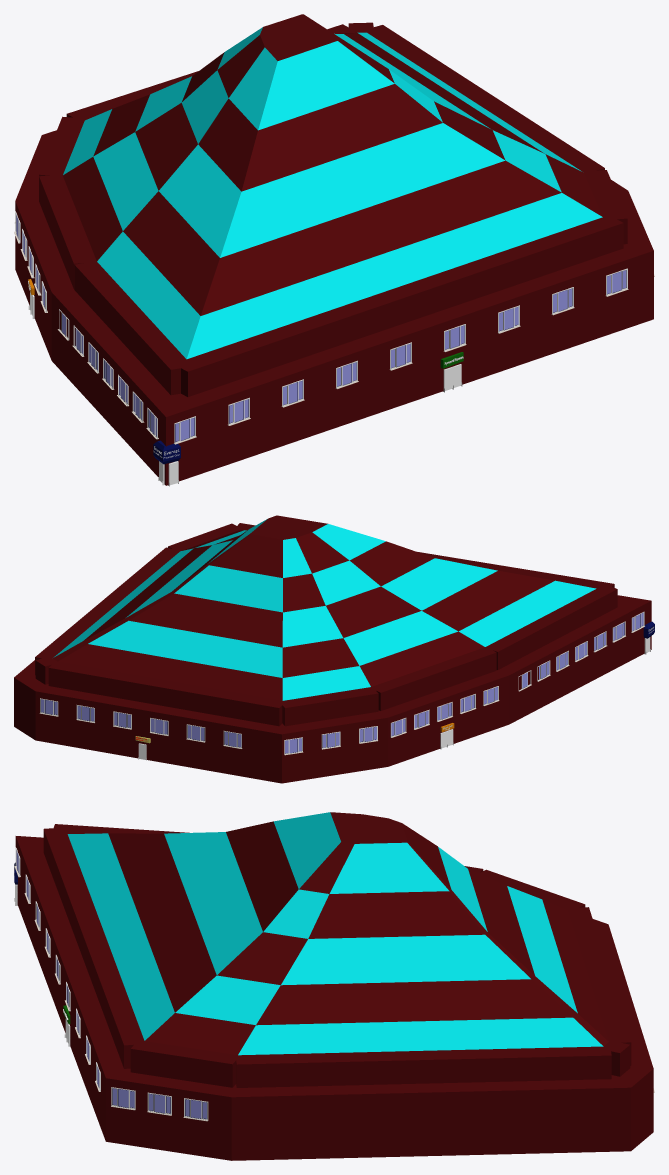
The model's file is ThePyramid.fbx.
The picture shows the model from 3 angles, top to bottom: view 1: azimuth 30°, elevation 25°; view 2: azimuth 150°, elevation 25°; view 3: azimuth 270°, elevation 25°; orthographic projection. The views are drawn at different scales.
Parts seen in each view (by area): view 1: Vert.006, Window, Window.002, Window.003; view 2: Vert.006, Window.005, Window.002, Window.003, Window.004; view 3: Vert.006, Window.001, Window.
Boxes of the visible parts, x1,y1,x2,y2 form: Vert.006: (15,14,653,485); Window: (173,268,628,444); Window.002: (57,309,158,439); Window.003: (14,211,47,312); Vert.006: (14,515,651,783); Window.005: (39,698,242,748); Window.002: (518,611,644,691); Window.003: (390,686,499,737); Window.004: (284,726,377,755); Vert.006: (15,812,653,1160); Window.001: (111,1087,208,1121); Window: (14,847,100,1091).
Size of the model in its own units: 60.57 by 23.1 by 62.32.
